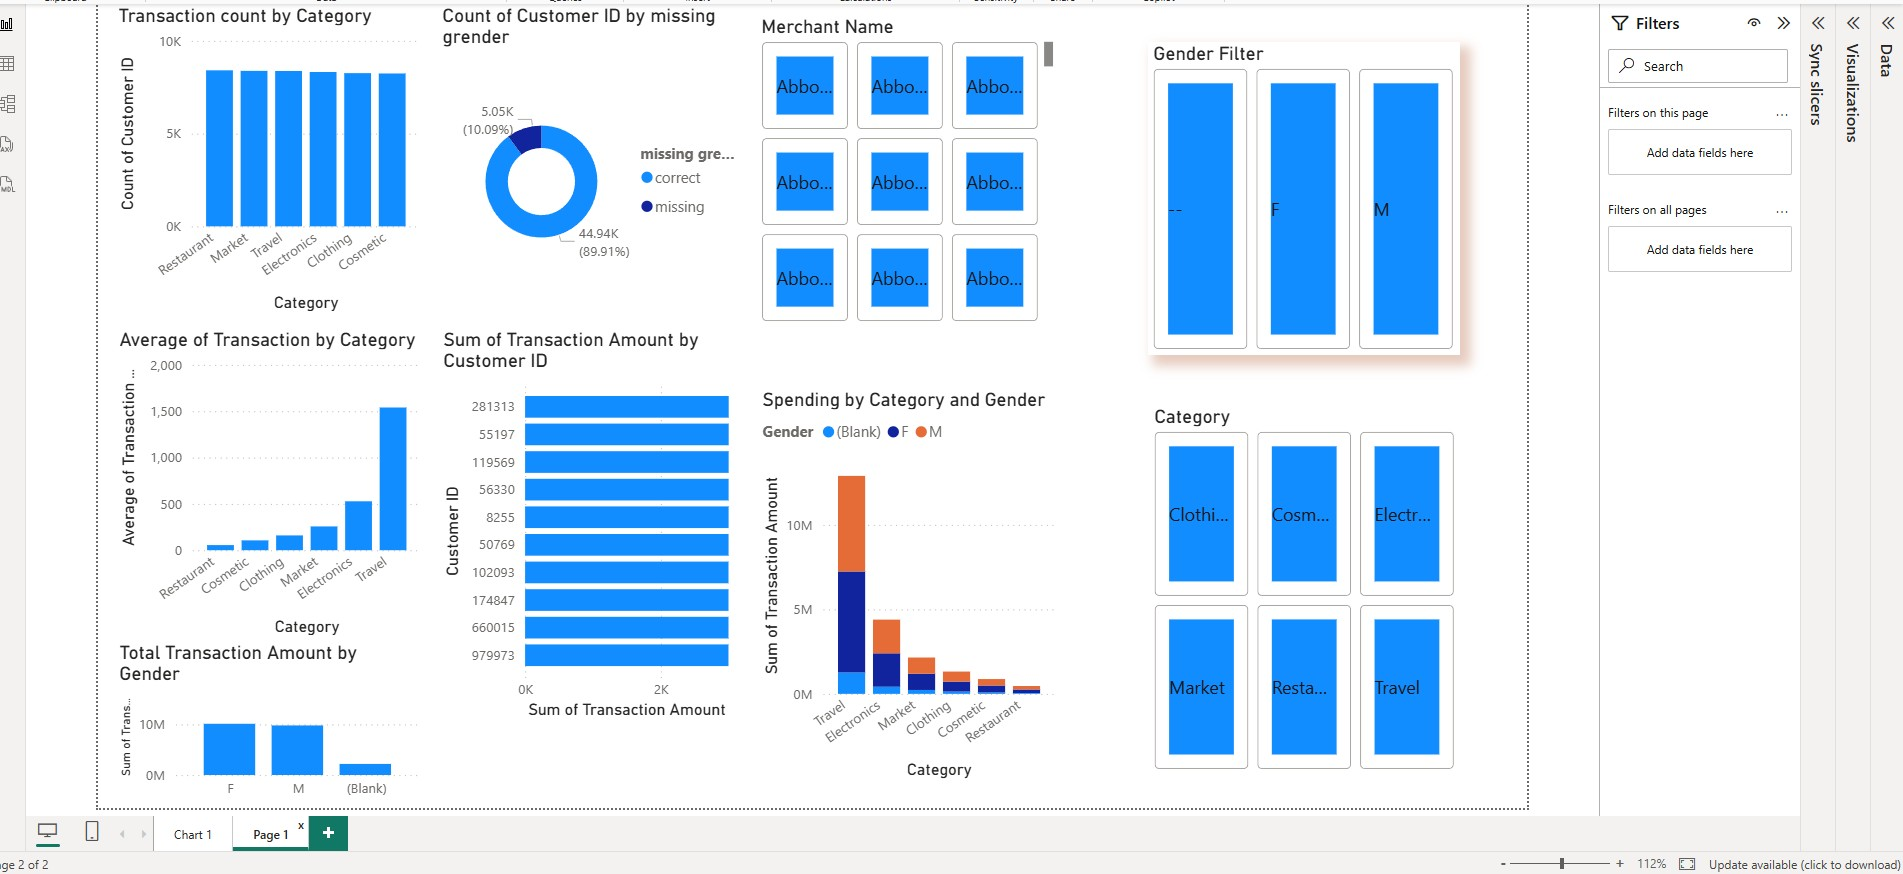

The page's visual inventory and layout, read from the dashboard file:
{"tool":"powerbi","page":{"name":"Page 1","canvas":[1280,720],"ordinal":1},"visuals":[{"type":"clusteredColumnChart","title":"Transaction count by Category","fields":{"Category":["credit_card_transaction_flow.Category"],"Y":["CountNonNull(credit_card_transaction_flow.Customer ID)"]},"box":[13.6,0,280.1,280.1],"z":0},{"type":"clusteredColumnChart","title":"Average of Transaction by Category","fields":{"Category":["credit_card_transaction_flow.Category"],"Y":["Avg(credit_card_transaction_flow.Transaction Amount)"]},"box":[14,290,280,280],"z":1},{"type":"clusteredColumnChart","title":"Total Transaction Amount by Gender","fields":{"Category":["credit_card_transaction_flow.Gender"],"Y":["Sum(credit_card_transaction_flow.Transaction Amount)"]},"box":[14,570,280,150],"z":2},{"type":"donutChart","fields":{"Category":["credit_card_transaction_flow.missing grender "],"Y":["CountNonNull(credit_card_transaction_flow.Customer ID)"]},"box":[304,0,280,280],"z":3},{"type":"clusteredBarChart","fields":{"Category":["credit_card_transaction_flow.Customer ID"],"Y":["Sum(credit_card_transaction_flow.Transaction Amount)"]},"box":[304.4,289.8,272.3,355],"z":4},{"type":"columnChart","title":"Spending by Category and Gender","fields":{"Category":["credit_card_transaction_flow.Category"],"Series":["credit_card_transaction_flow.Gender"],"Y":["Sum(credit_card_transaction_flow.Transaction Amount)"]},"box":[589.8,344,271.8,355.2],"z":5},{"type":"advancedSlicerVisual","title":"Gender Filter","fields":{"Values":["credit_card_transaction_flow.Gender"]},"box":[940.5,34,279.1,280.1],"z":6},{"type":"advancedSlicerVisual","fields":{"Values":["credit_card_transaction_flow.Category"]},"box":[941.3,358.7,278.8,331.7],"z":7},{"type":"advancedSlicerVisual","fields":{"Values":["credit_card_transaction_flow.Merchant Name"]},"box":[589.5,10,271.8,279.8],"z":8}]}

Visuals, with their boxes on the page's 1280x720 design canvas (x1, y1, x2, y2). These are canvas units, not pixel positions in the 1903x874 screenshot, which may show the page scaled, cropped or inside an application window:
"Transaction count by Category" clusteredColumnChart: select_region(14, 0, 294, 280)
"Average of Transaction by Category" clusteredColumnChart: select_region(14, 290, 294, 570)
"Total Transaction Amount by Gender" clusteredColumnChart: select_region(14, 570, 294, 720)
donutChart - credit_card_transaction_flow.missing grender  x CountNonNull(credit_card_transaction_flow.Customer ID): select_region(304, 0, 584, 280)
clusteredBarChart - credit_card_transaction_flow.Customer ID x Sum(credit_card_transaction_flow.Transaction Amount): select_region(304, 290, 577, 645)
"Spending by Category and Gender" columnChart: select_region(590, 344, 862, 699)
"Gender Filter" advancedSlicerVisual: select_region(940, 34, 1220, 314)
advancedSlicerVisual - credit_card_transaction_flow.Category: select_region(941, 359, 1220, 690)
advancedSlicerVisual - credit_card_transaction_flow.Merchant Name: select_region(590, 10, 861, 290)
